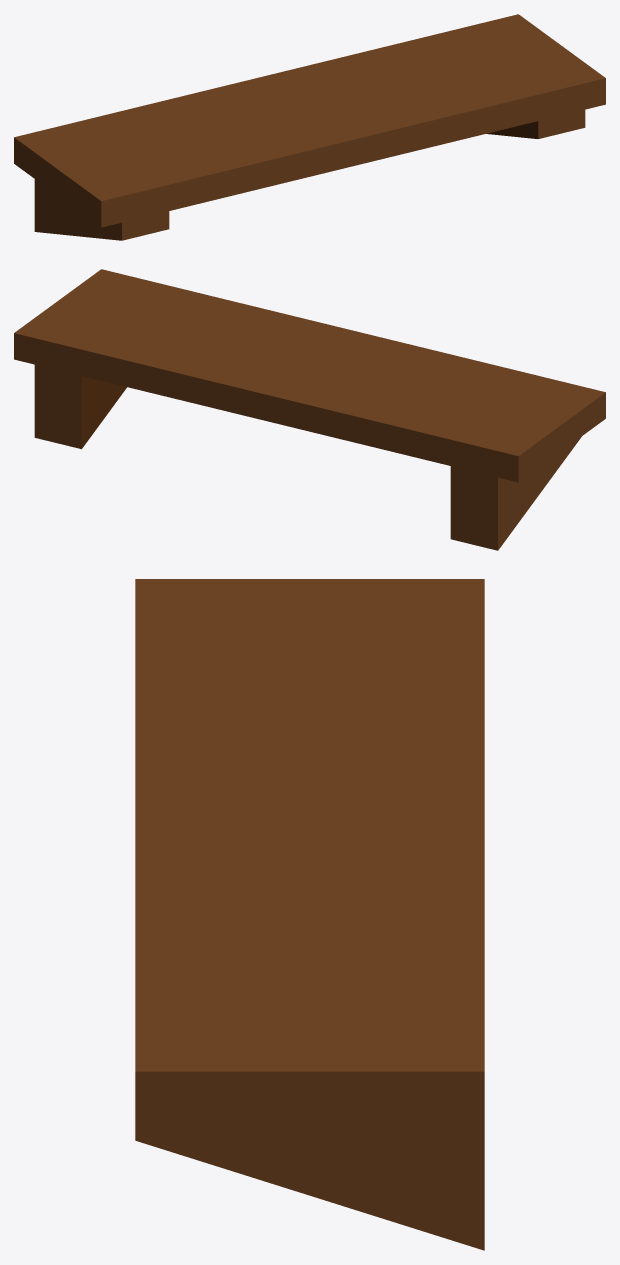
Rendered from Shelf3.fbx.
The picture shows the model from 3 angles, top to bottom: view 1: azimuth 30°, elevation 25°; view 2: azimuth 150°, elevation 25°; view 3: azimuth 270°, elevation 25°; orthographic projection. The views are drawn at different scales.
Visible parts, largest first — view 1: Prop_KitchenShelf_04; view 2: Prop_KitchenShelf_04; view 3: Prop_KitchenShelf_04.
Boxes of the visible parts, box(x1,y1,x2,y2) form: Prop_KitchenShelf_04: box(14, 14, 605, 240); Prop_KitchenShelf_04: box(14, 269, 605, 550); Prop_KitchenShelf_04: box(135, 579, 484, 1250).
Size of the model in its own units: 100 by 18.86 by 30.
Materials: 1 (1 with a texture image).
